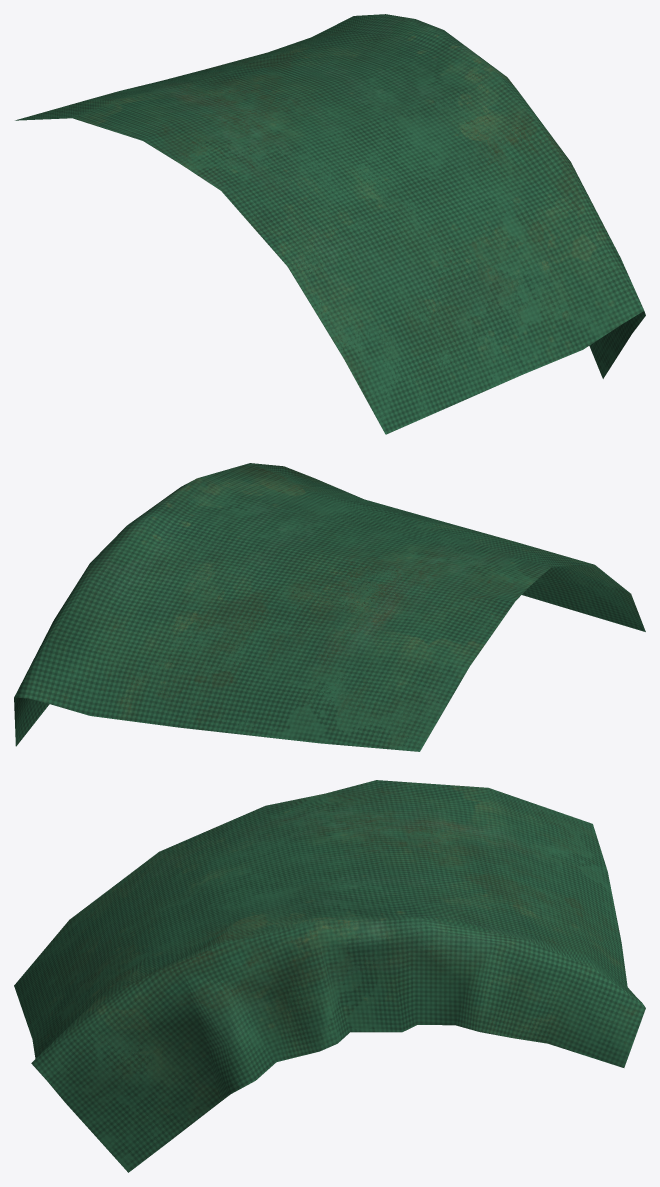
Rendered from greenHouse_shade_back.fbx.
3 renders of one model, top to bottom at view 1: azimuth 30°, elevation 25°; view 2: azimuth 150°, elevation 25°; view 3: azimuth 270°, elevation 25°, orthographic. The views are drawn at different scales.
Visible parts, largest first — view 1: greenHouse_shade_back; view 2: greenHouse_shade_back; view 3: greenHouse_shade_back.
Boxes of the visible parts, x1,y1,x2,y2 form: greenHouse_shade_back: (15,14,645,434); greenHouse_shade_back: (14,463,645,751); greenHouse_shade_back: (14,780,645,1172).
Size of the model in its own units: 252 by 152 by 357.
